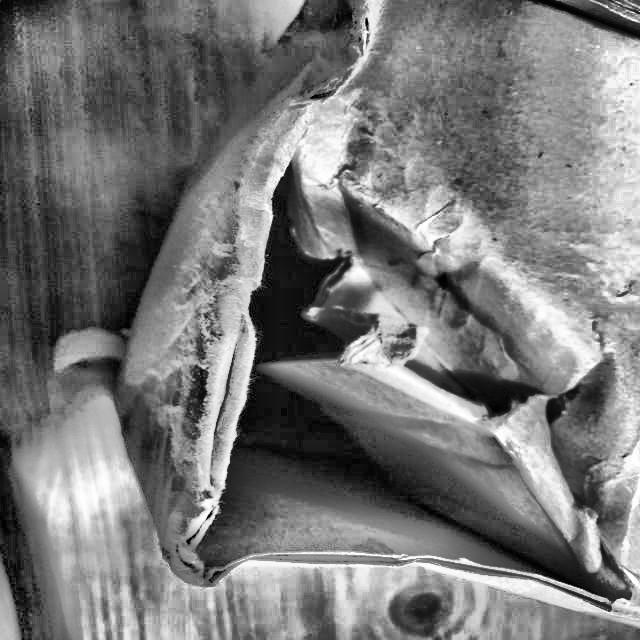box: (110, 0, 640, 606)
hole: (217, 173, 621, 612)
